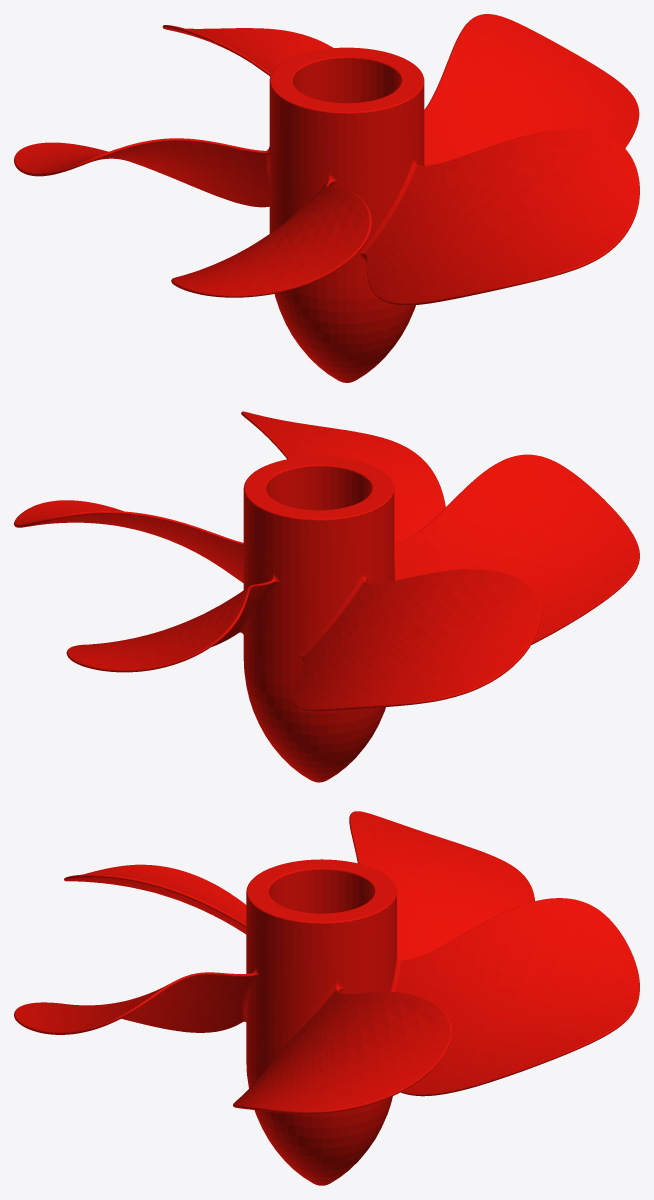
The model's file is propeller0.dae.
3 views of the same model, one above another, from view 1: azimuth 30°, elevation 25°; view 2: azimuth 150°, elevation 25°; view 3: azimuth 270°, elevation 25° (orthographic). The views are drawn at different scales.
Visible parts, largest first — view 1: propeller_blade; view 2: propeller_blade; view 3: propeller_blade.
Part boxes in pixels (x1=…): propeller_blade: x1=14, y1=14, x2=639, y2=382; propeller_blade: x1=14, y1=411, x2=639, y2=782; propeller_blade: x1=14, y1=811, x2=639, y2=1185.
Bounding box in the file's own units: 0.0554 × 0.0559 × 0.0289.
